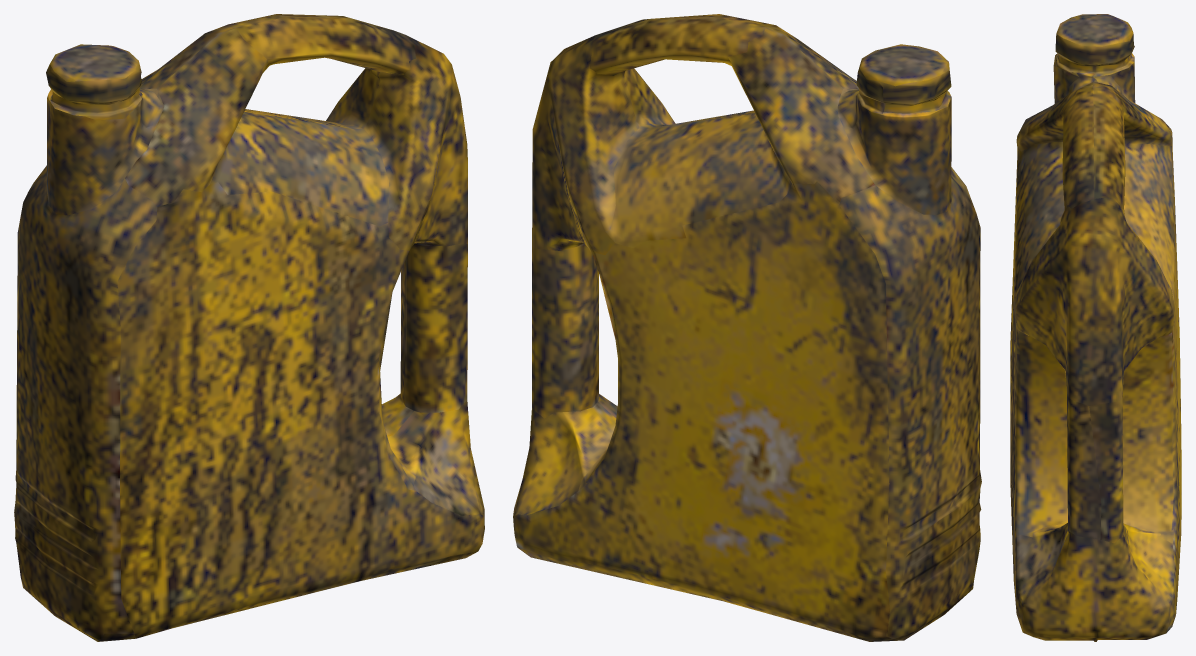
The model's file is SM_Ind_Con_Oil_Plastic_Pack_02_B.gltf.
The picture shows the model from 3 angles, left to right: view 1: azimuth 30°, elevation 25°; view 2: azimuth 150°, elevation 25°; view 3: azimuth 270°, elevation 25°; orthographic projection. The views are drawn at different scales.
Visible parts, largest first — view 1: SM_Ind_Con_Oil_Plastic_Pack_02_B; view 2: SM_Ind_Con_Oil_Plastic_Pack_02_B; view 3: SM_Ind_Con_Oil_Plastic_Pack_02_B.
Part boxes in pixels (<box>): SM_Ind_Con_Oil_Plastic_Pack_02_B: <box>14,14,484,641</box>; SM_Ind_Con_Oil_Plastic_Pack_02_B: <box>513,14,981,641</box>; SM_Ind_Con_Oil_Plastic_Pack_02_B: <box>1010,14,1181,641</box>.
Size of the model in its own units: 0.1717 by 0.2208 by 0.0728.
Materials: 1 (1 with a texture image).
